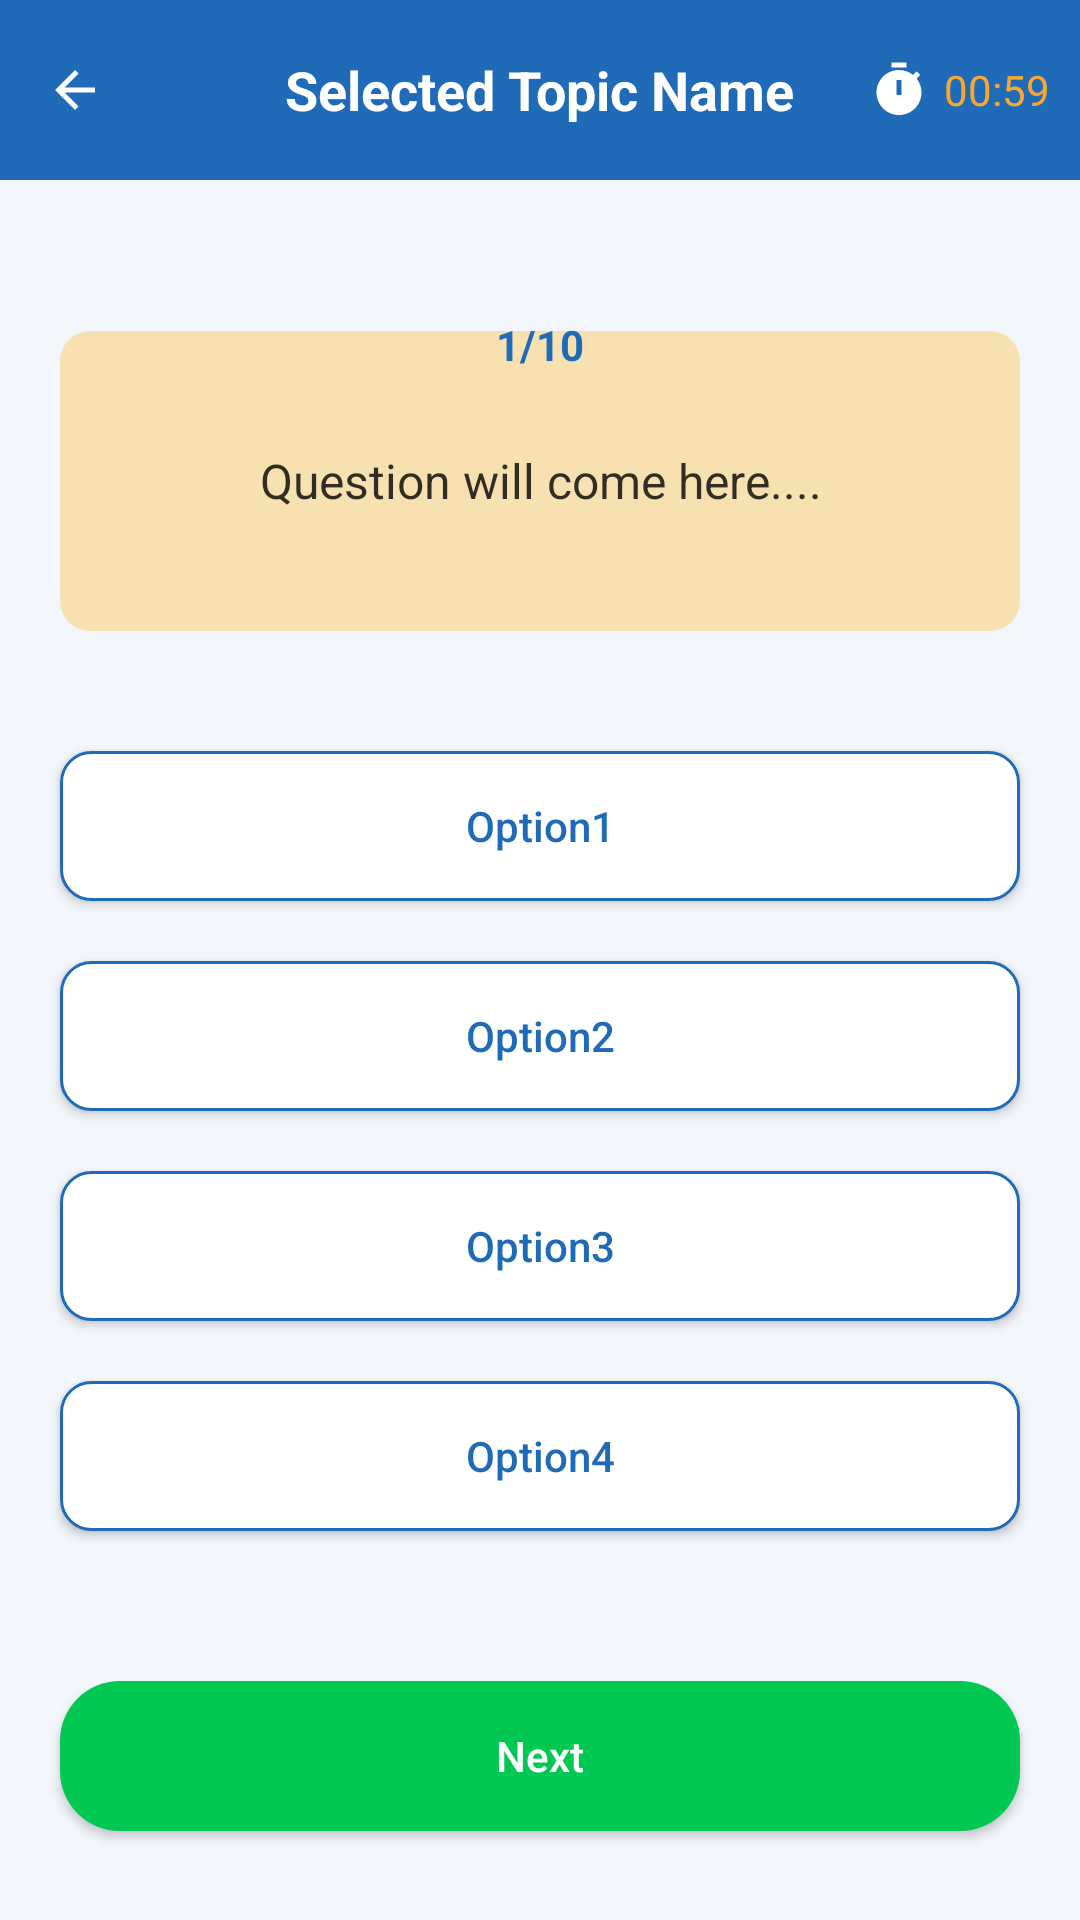

Named icons in this screenshot (1080×1920) and their bounding boxes, (x1, y1, x2, y2):
arrow back: (55, 70, 95, 110)
timer: (876, 62, 922, 115)
